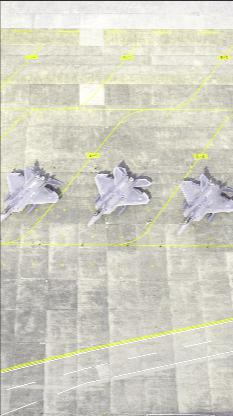F18: (86, 164, 151, 226), (1, 164, 62, 224), (177, 172, 232, 235)
